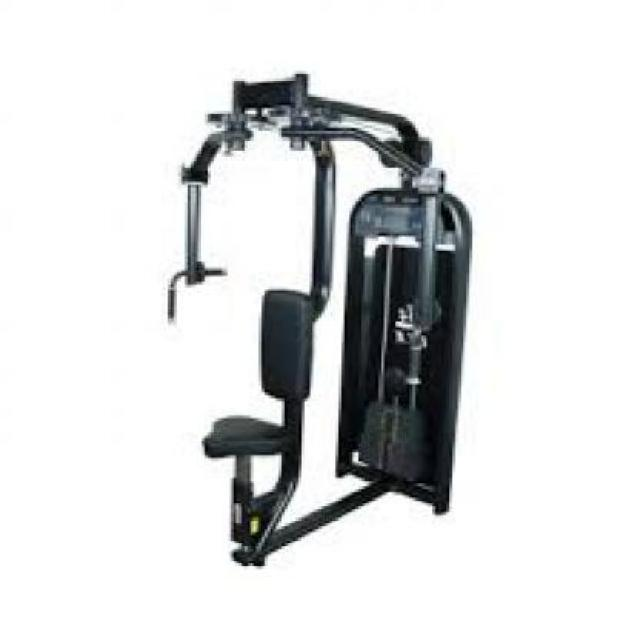chest fly machine: (99, 32, 506, 582)
